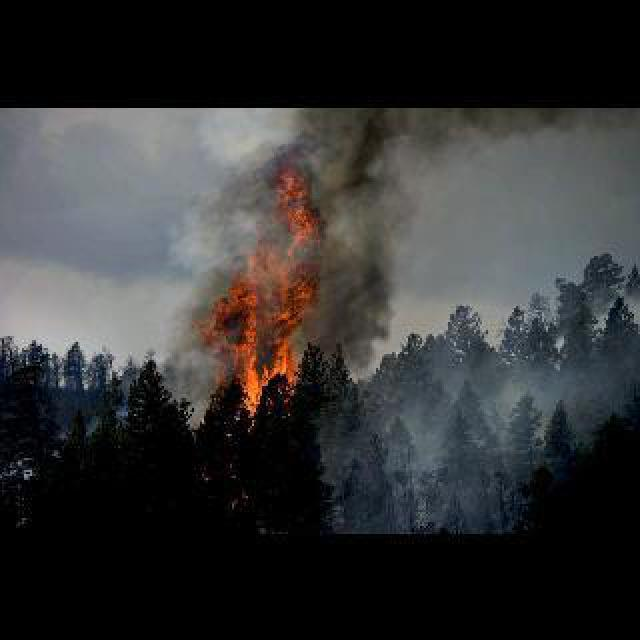fire: (198, 166, 318, 412)
smoke: (288, 98, 402, 359), (399, 98, 638, 172), (199, 130, 286, 234)
